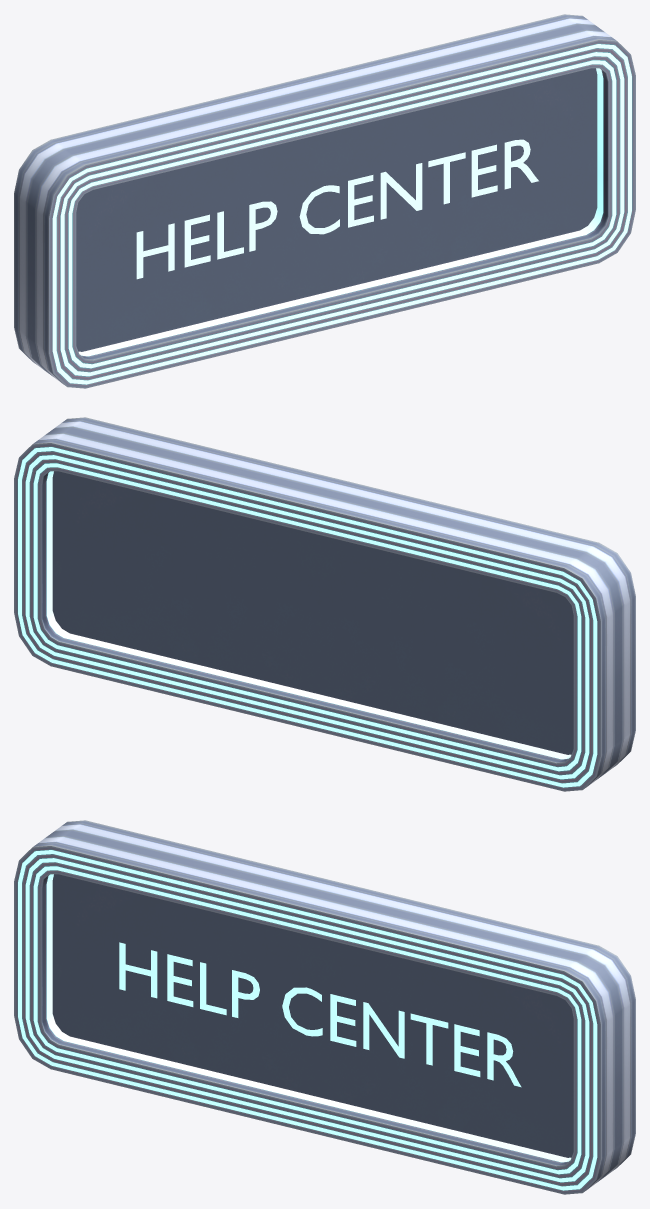
The model's file is obj_sign06.gltf.
3 views of the same model, one above another, from view 1: azimuth 30°, elevation 25°; view 2: azimuth 150°, elevation 25°; view 3: azimuth 330°, elevation 25° (orthographic).
Visible parts, largest first — view 1: obj_sign06; view 2: obj_sign06; view 3: obj_sign06.
Part boxes in pixels (x1,y1,x2,y2): obj_sign06: (14, 14, 635, 388); obj_sign06: (14, 417, 635, 791); obj_sign06: (14, 820, 635, 1194).
Size of what is drawn, in the model's own units: 4.27 by 1.55 by 0.439.
Materials: 2 (1 with a texture image).
